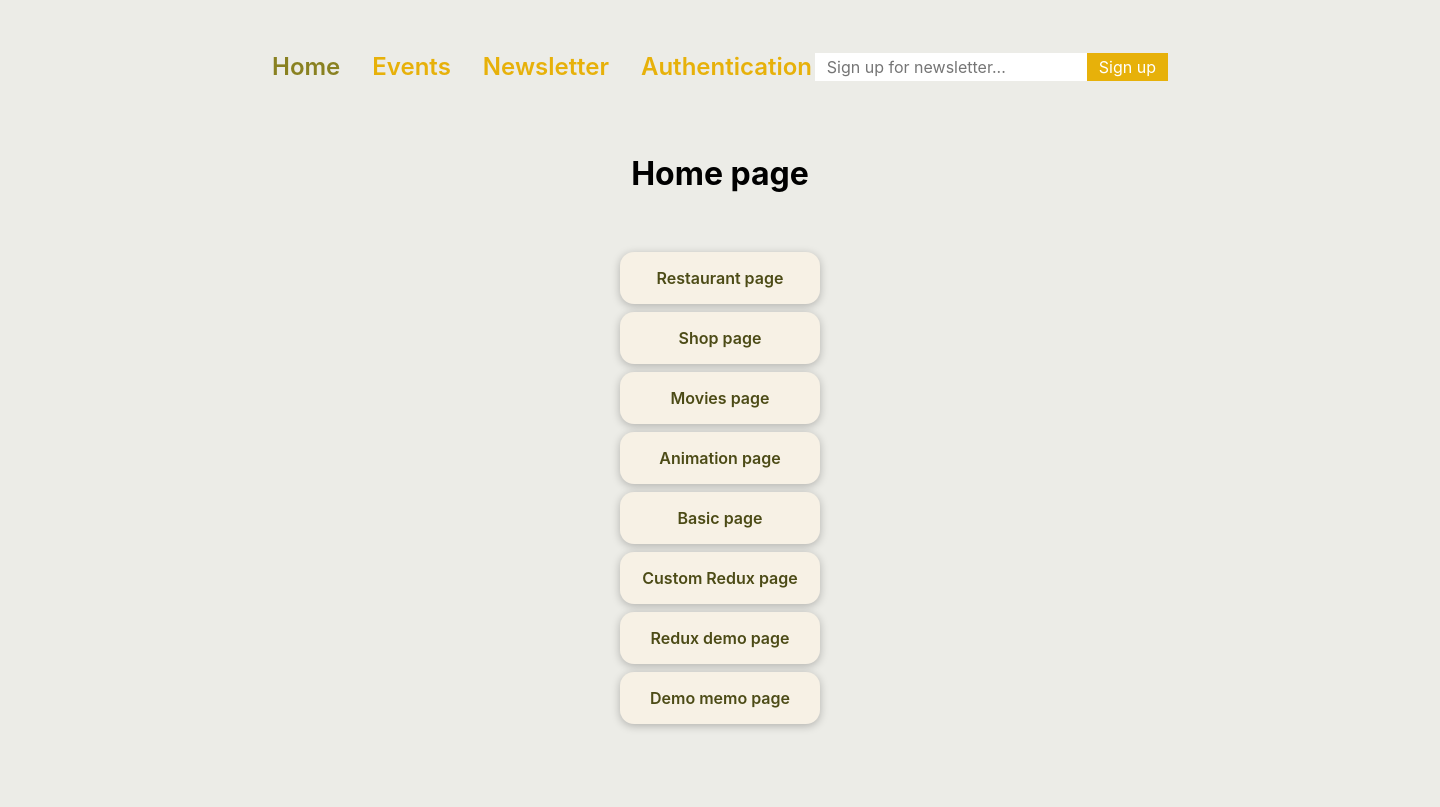
Home component › click on "Basic page" link is rendering <Basic />
Click the link "Basic page".
click(720, 522)  # box [620, 492, 820, 552]
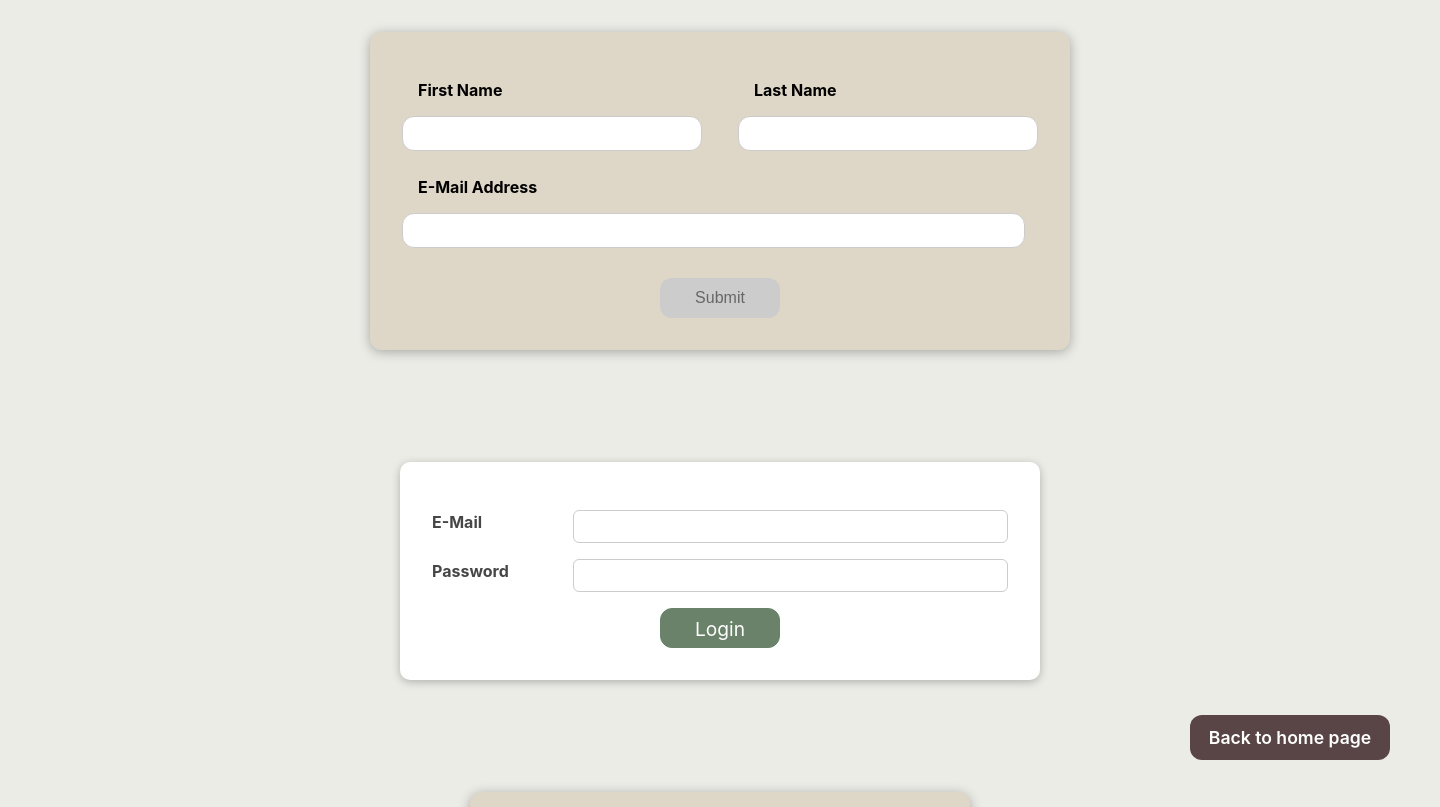
Expected: the text "First Name" is shown, [418, 80, 502, 100]
